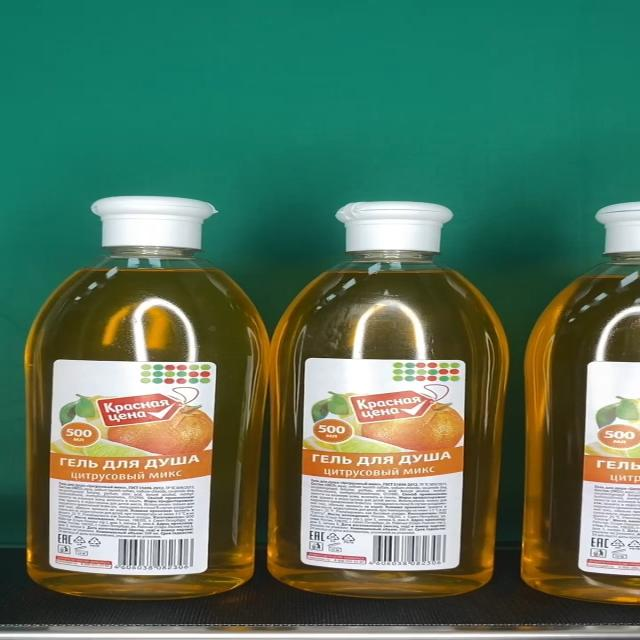Bottle: (24, 196, 270, 600), (270, 200, 508, 599)
Cap: (89, 196, 215, 246), (334, 201, 453, 252)
